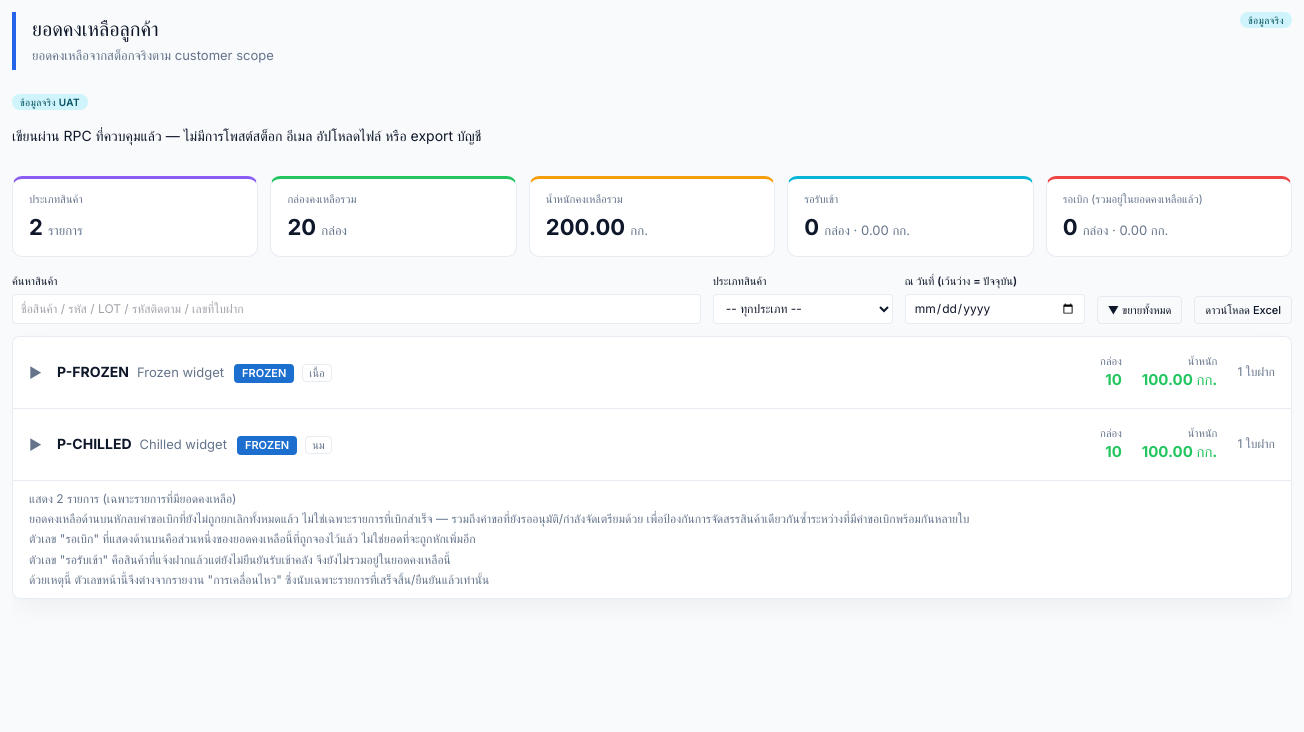
Scenario: CustomerStockBalancePage product category filter › filters rows by the selected catalog category, scoped to this customer only
Expected: the text "Frozen widget" is shown, [137,364,224,380]
Step 1. Select "นม" in the dropdown labelled "ประเภทสินค้า" → (803, 308), box [713,294,893,324]
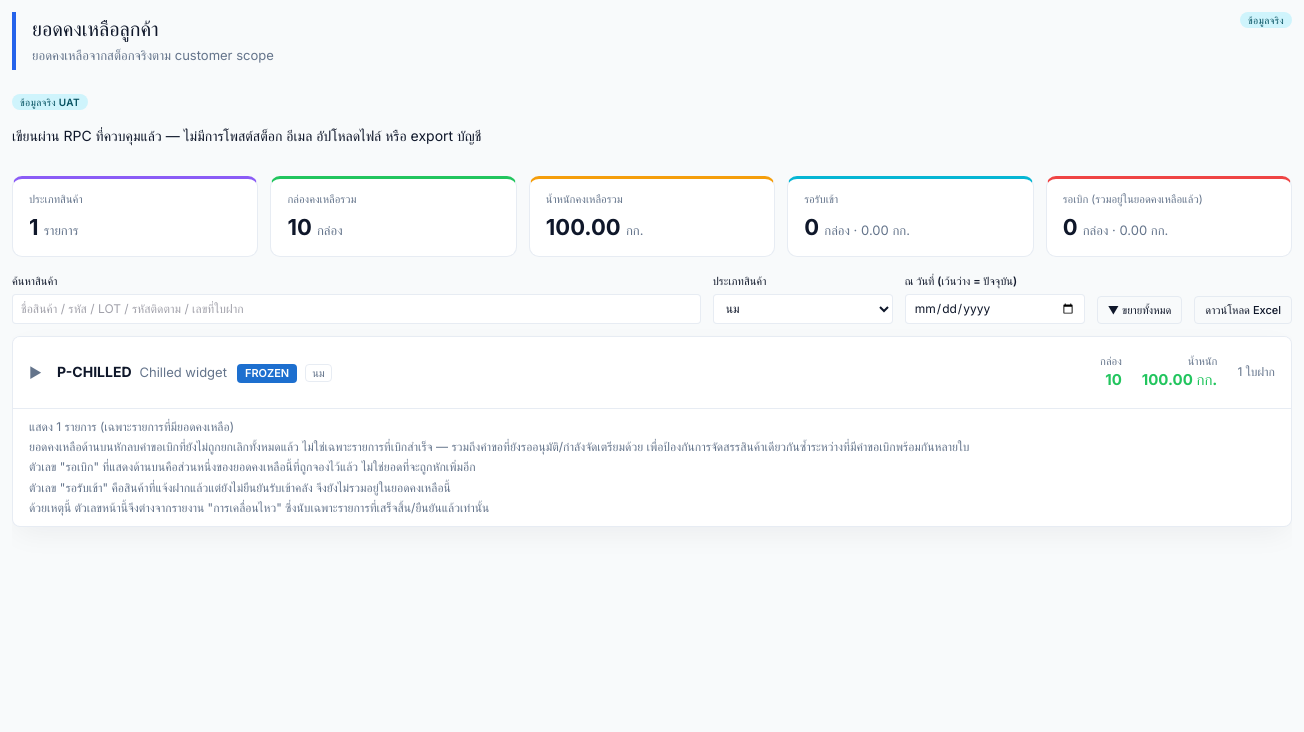
Expected: the text "Chilled widget" is shown, [140,364,227,380]
Expected: the button "Frozen widget" is gone
